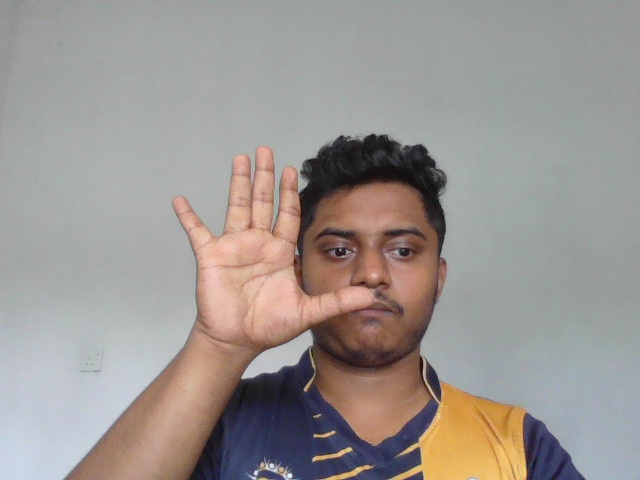Hello: (168, 140, 375, 354)
